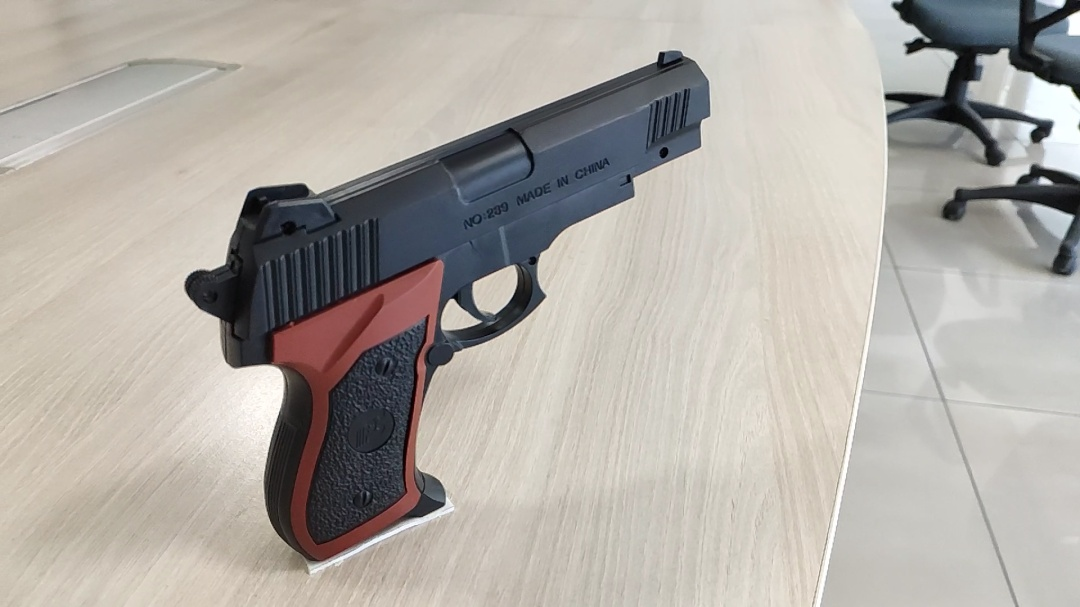gun: (183, 51, 713, 564)
